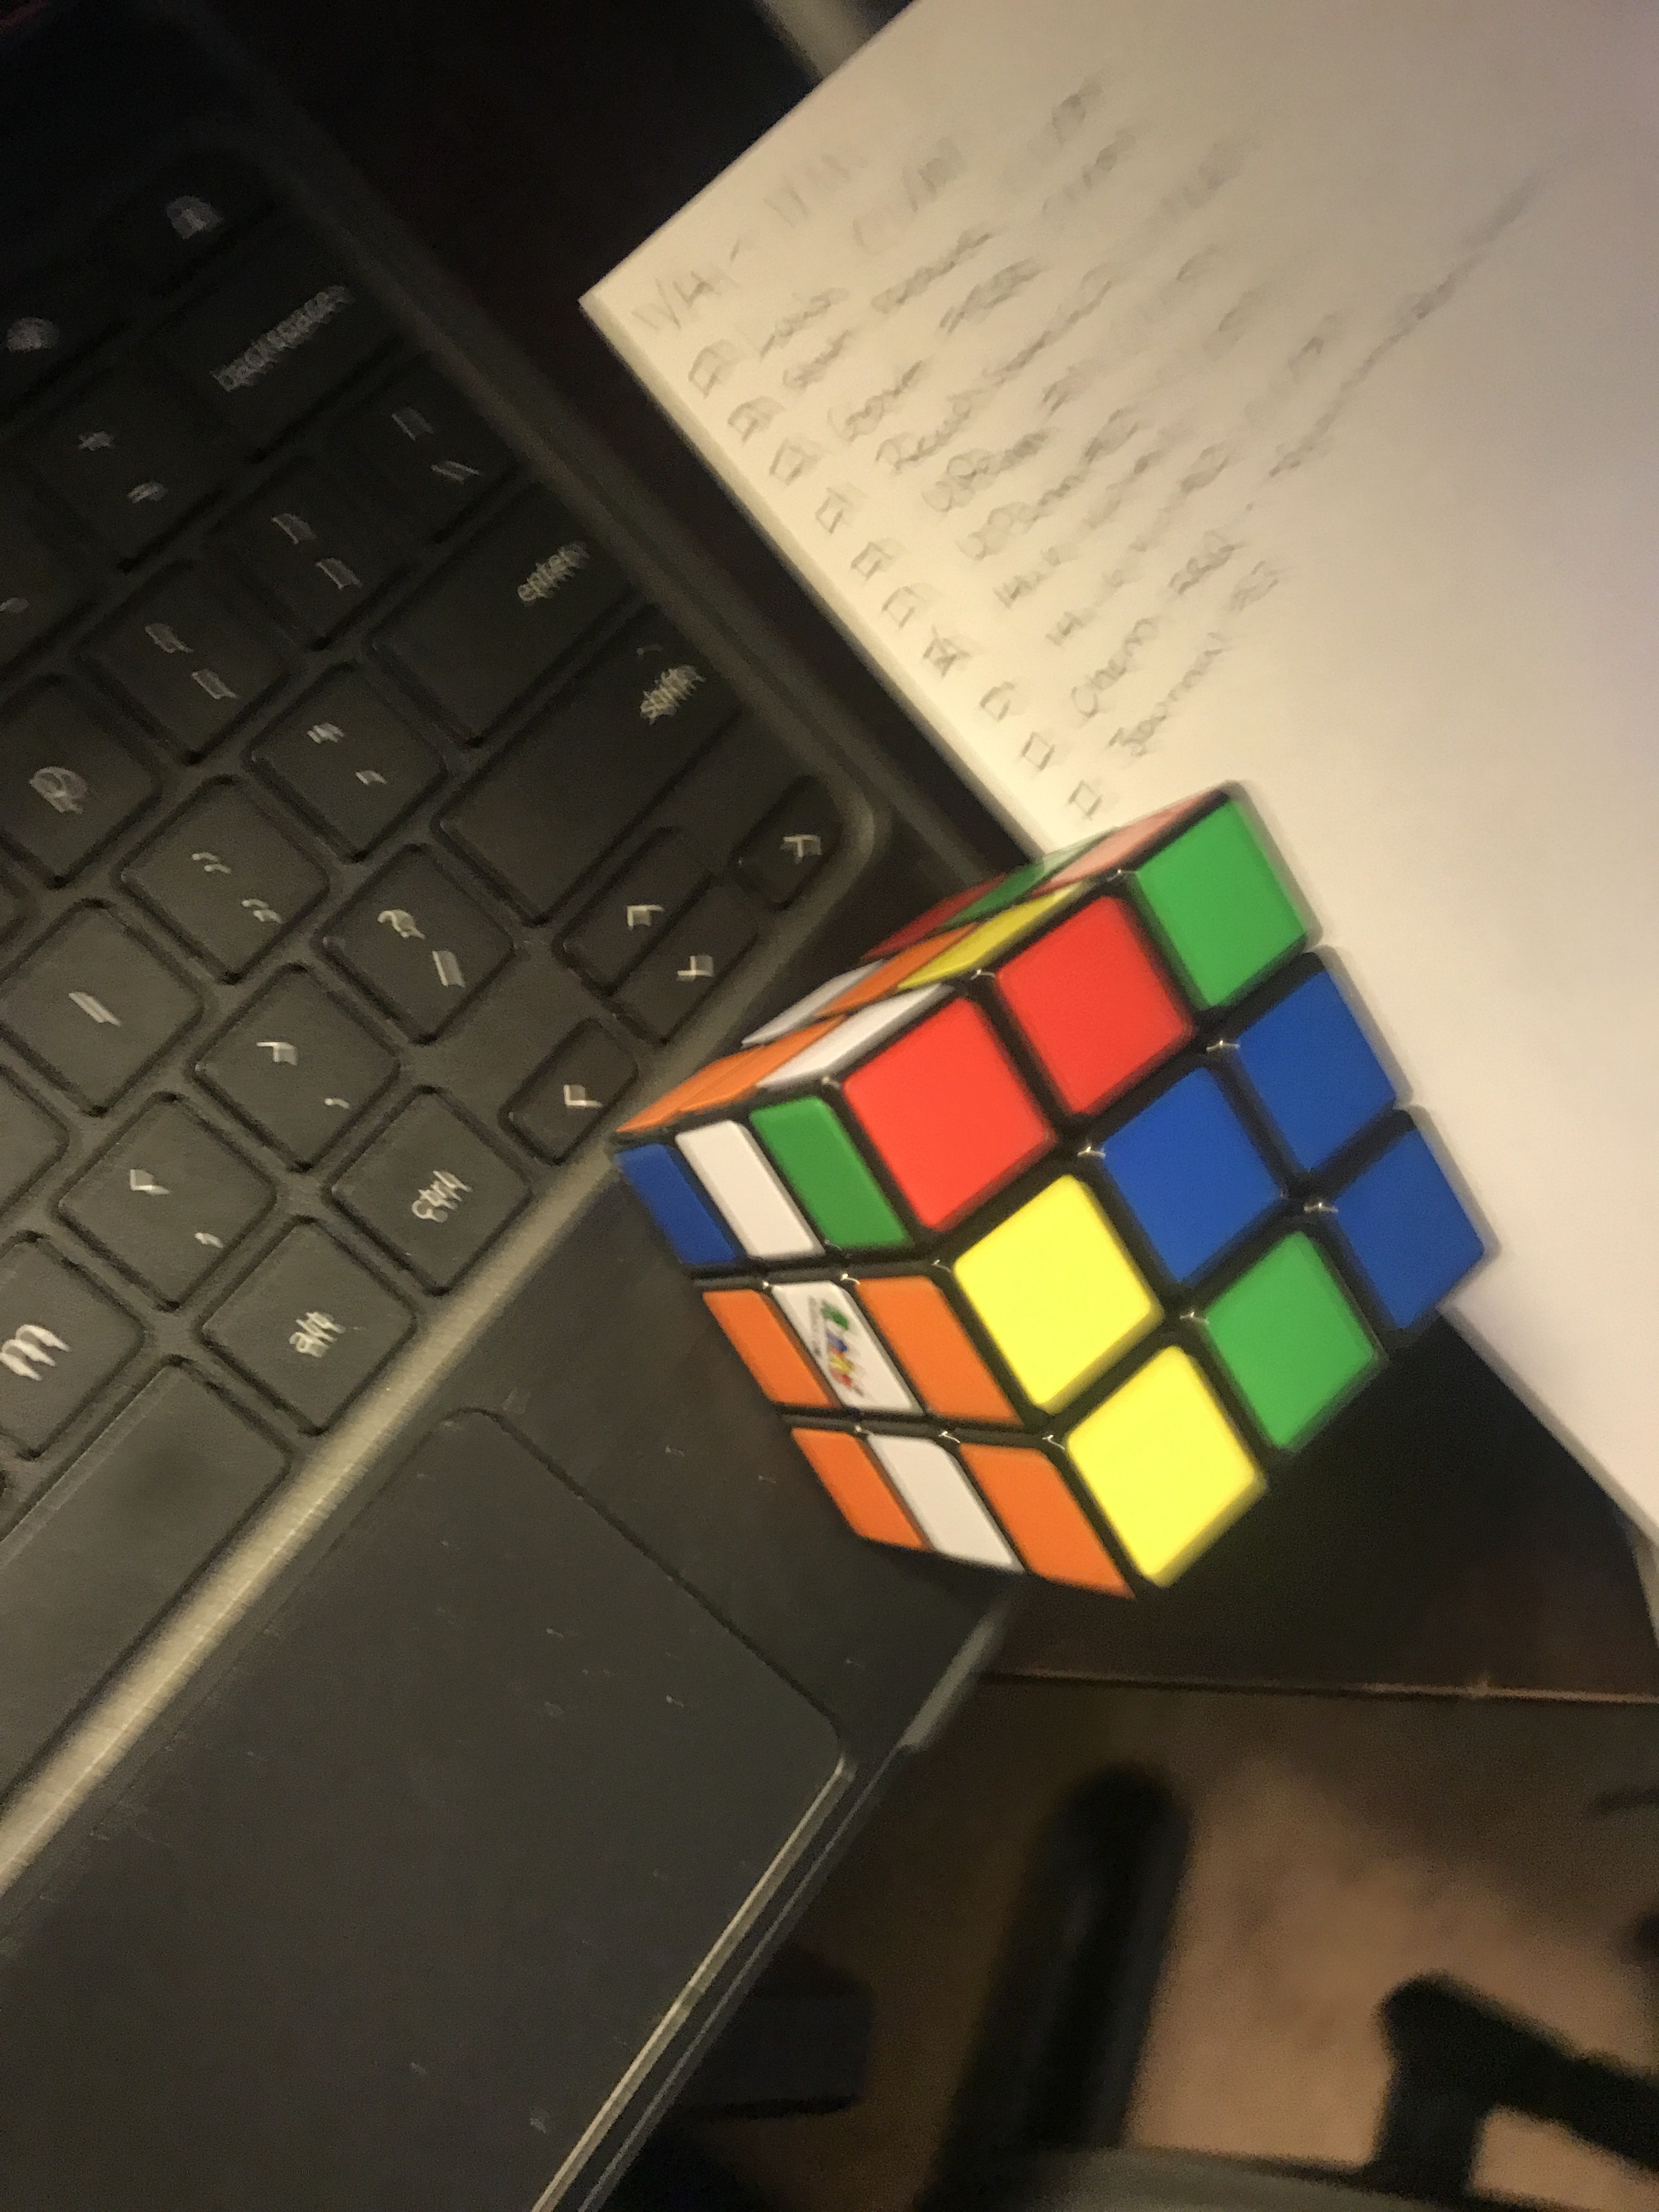rubiks: (612, 782, 1495, 1599)
